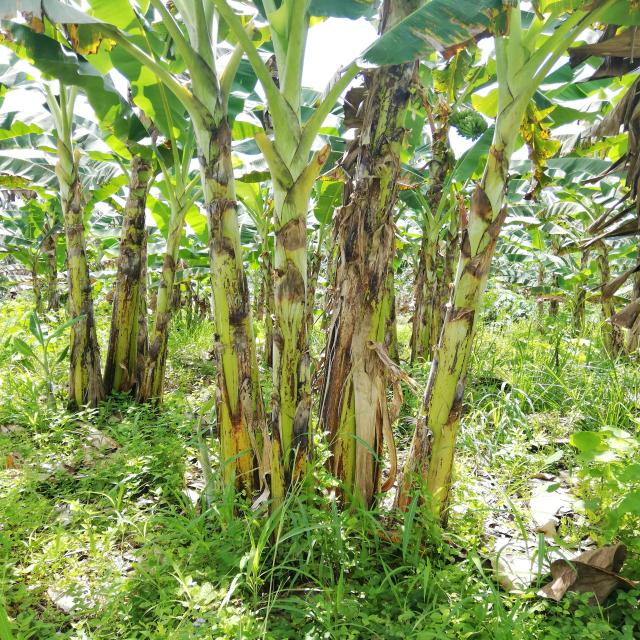Banana-plant: (387, 53, 573, 557), (310, 8, 415, 532), (167, 84, 263, 533), (258, 86, 316, 515), (40, 105, 99, 408), (139, 196, 191, 412), (106, 105, 138, 402)
